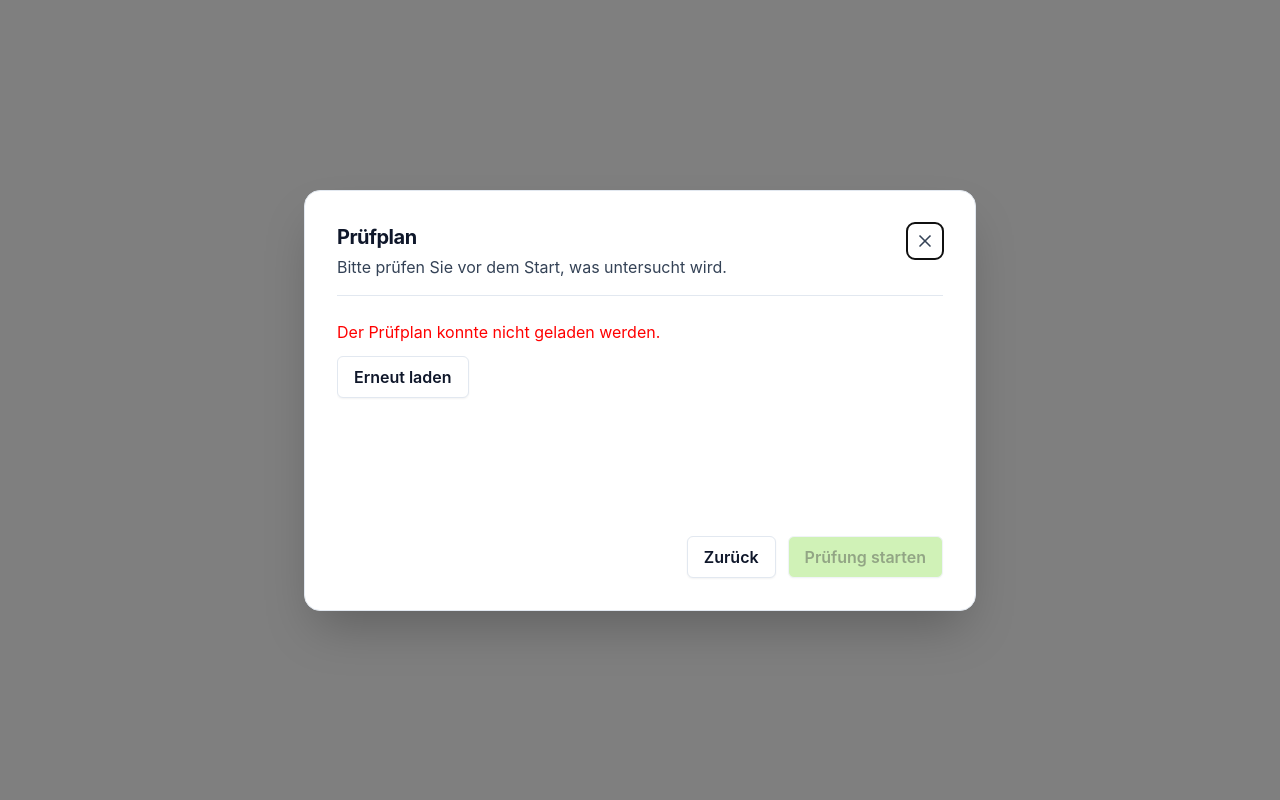
Test: PruefplanDialog › zeigt bei einem Ladefehler eine Meldung mit Wiederholen und erlaubt keinen Start
Expected: the text "Der Prüfplan konnte nicht geladen werden." is shown, [337, 322, 660, 342]
Expected: the button "Prüfung starten" is disabled, [788, 536, 943, 578]
Click the button "Erneut laden".
click(403, 376)  # box [337, 356, 468, 398]
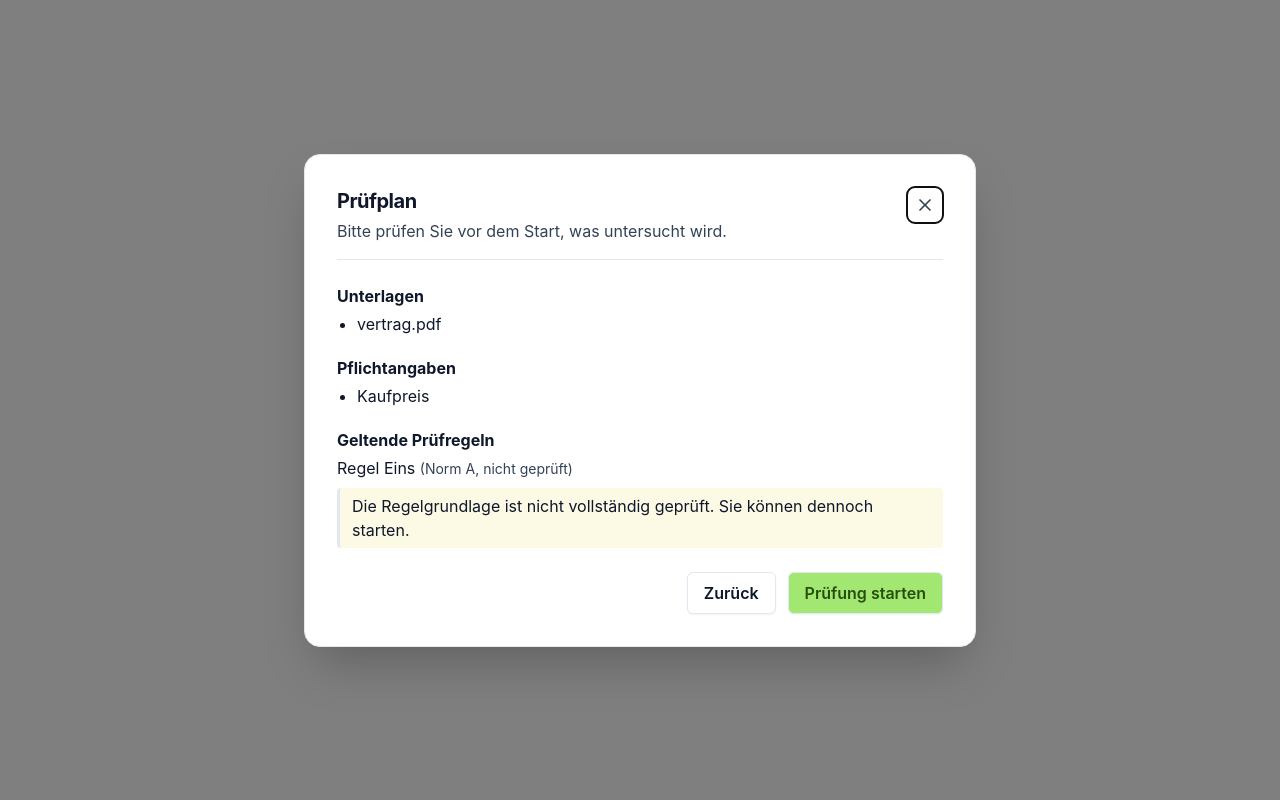
Expected: the list item "Kaufpreis" is shown, [357, 386, 429, 406]
